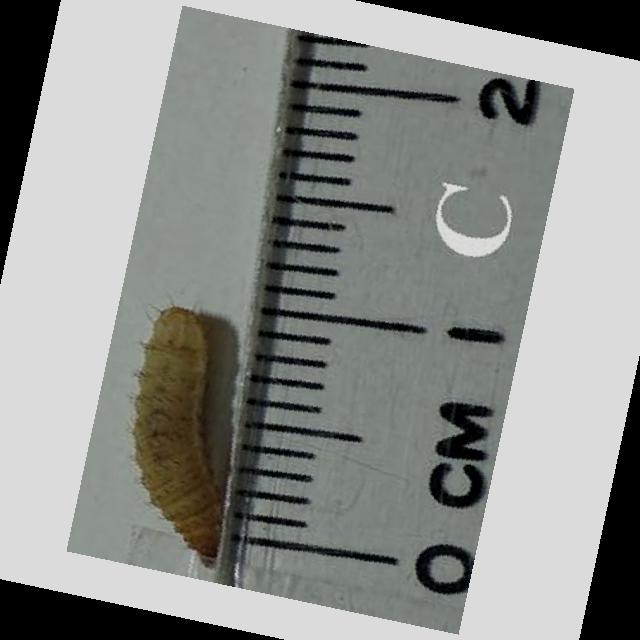Maggot: (135, 304, 244, 567)
